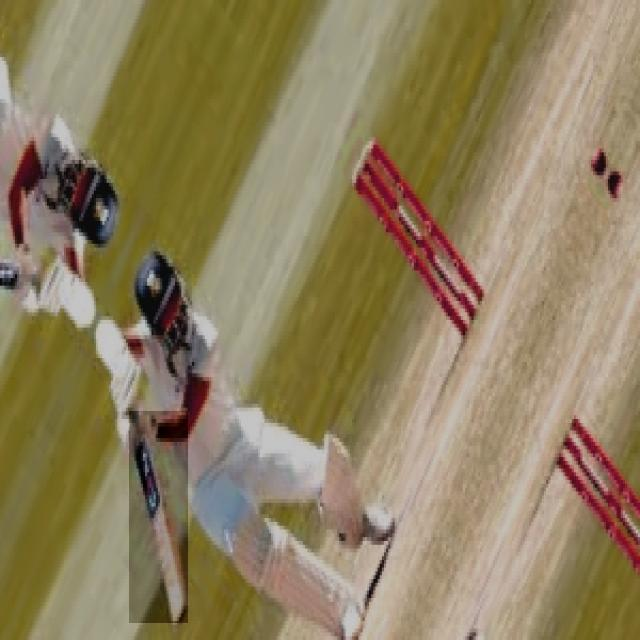bat: (130, 409, 189, 625)
toe: (165, 605, 188, 620)
